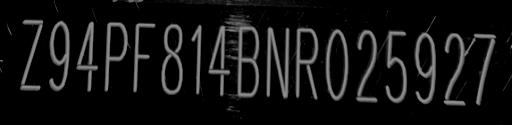letter: (16, 16, 46, 93), (351, 27, 381, 104), (470, 30, 500, 107), (44, 18, 74, 93), (100, 20, 130, 93), (232, 24, 262, 97), (261, 25, 291, 98), (292, 24, 320, 99), (158, 22, 186, 95), (383, 28, 409, 105), (131, 19, 157, 94), (74, 19, 100, 94), (322, 25, 348, 100), (412, 31, 438, 106), (442, 31, 468, 106), (206, 23, 232, 96), (186, 22, 208, 95)
